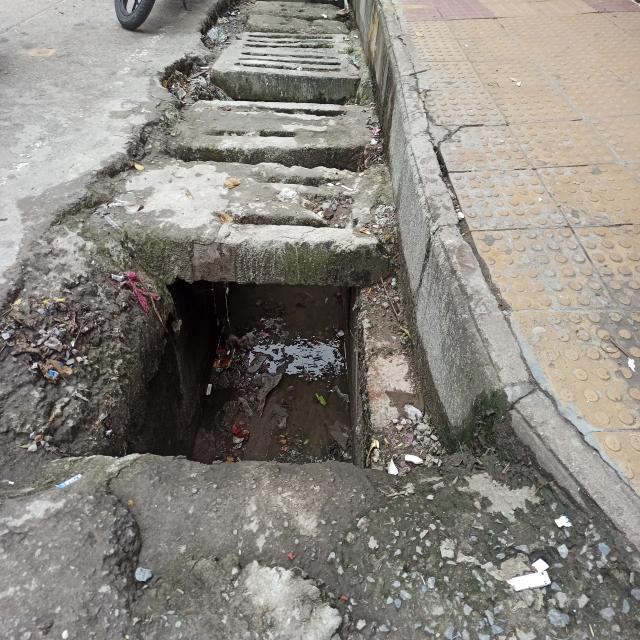drain_inlet: (96, 268, 368, 460)
